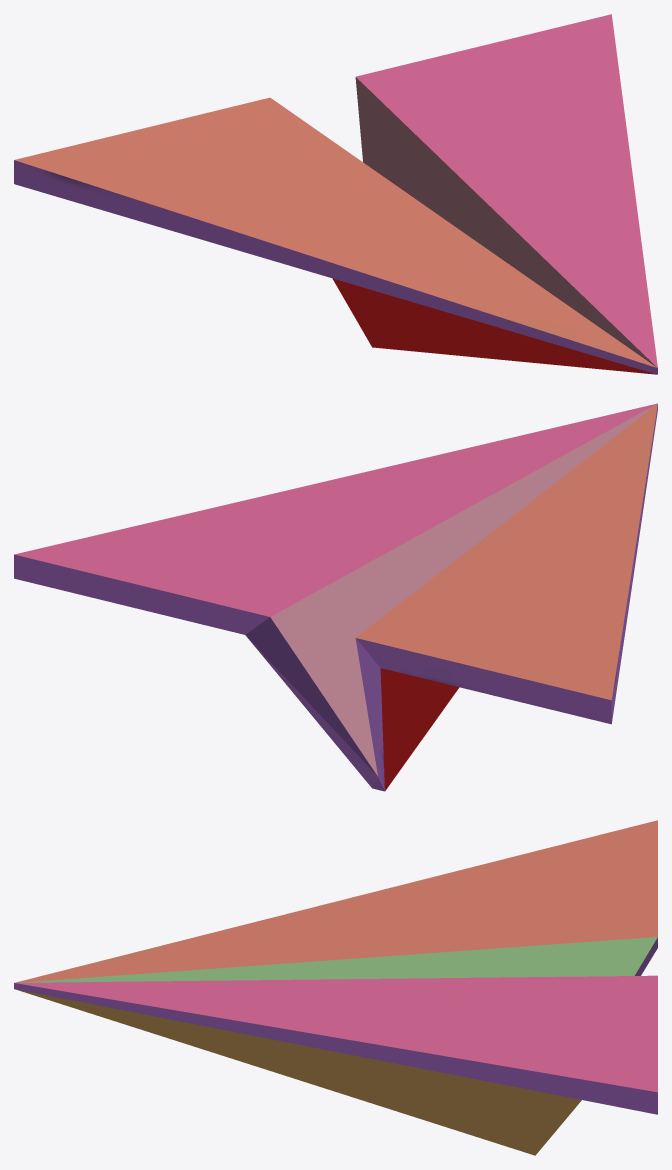
Rendered from kamihikouki.obj.
The picture shows the model from 3 angles, top to bottom: view 1: azimuth 30°, elevation 25°; view 2: azimuth 150°, elevation 25°; view 3: azimuth 270°, elevation 25°; orthographic projection. The views are drawn at different scales.
Visible parts, largest first — view 1: Cube; view 2: Cube; view 3: Cube.
Boxes of the visible parts, x1,y1,x2,y2 form: Cube: [14, 14, 657, 374]; Cube: [14, 403, 657, 791]; Cube: [14, 820, 657, 1155].
Size of the model in its own units: 2 by 0.6736 by 2.
Materials: 1 (1 with a texture image).
